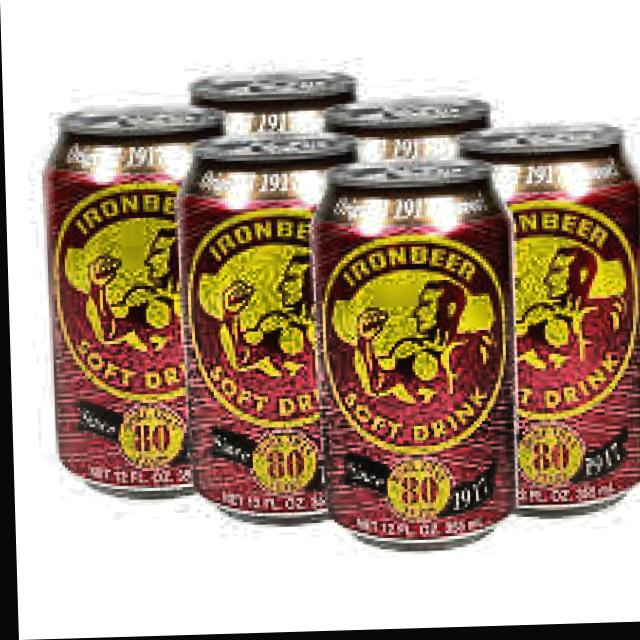can: (308, 153, 516, 556), (36, 102, 239, 505), (175, 132, 370, 528), (460, 121, 640, 525), (186, 64, 362, 151), (320, 92, 494, 172)
